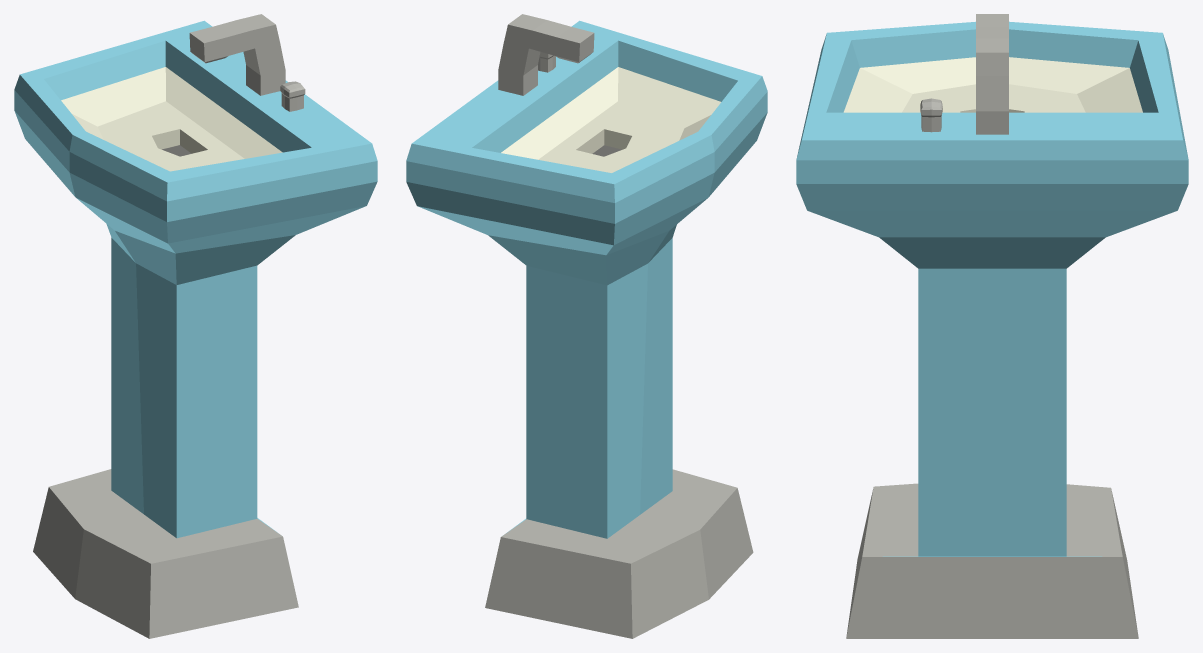
Rendered from Sink.fbx.
3 renders of one model, left to right at view 1: azimuth 30°, elevation 25°; view 2: azimuth 150°, elevation 25°; view 3: azimuth 270°, elevation 25°, orthographic. The views are drawn at different scales.
Parts seen in each view (by area): view 1: Cube.8167; view 2: Cube.8167; view 3: Cube.8167.
Part boxes in pixels (x1,y1,x2,y2): Cube.8167: (14, 14, 377, 638); Cube.8167: (406, 14, 767, 638); Cube.8167: (796, 14, 1188, 638).
Bounding box in the file's own units: 66.6 × 153 × 89.81.
1 material, 1 textured.
